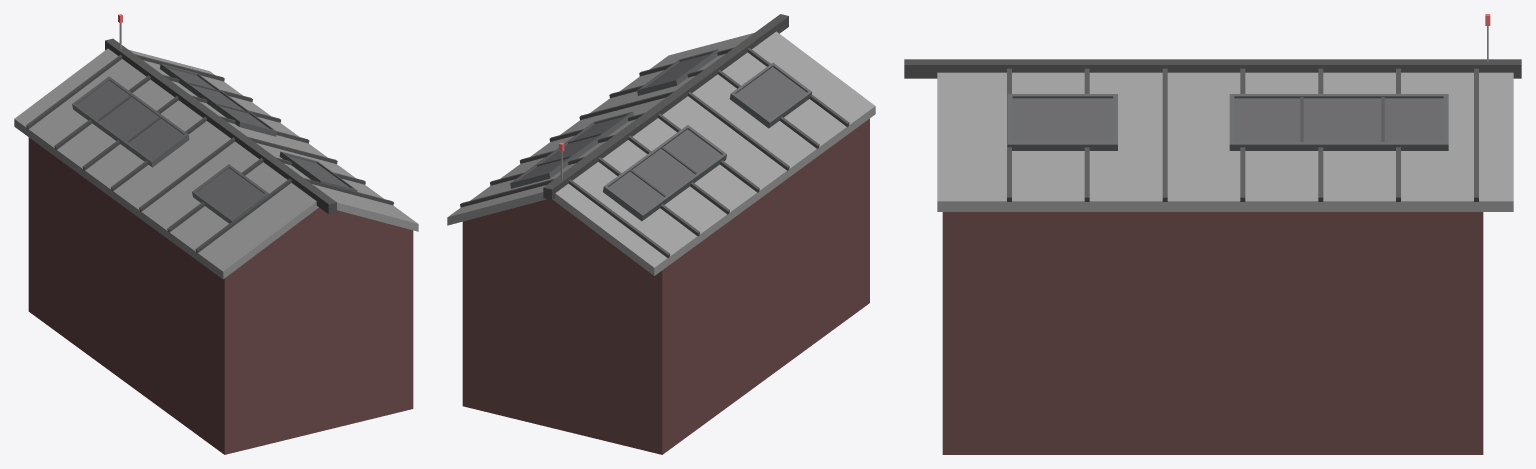
File: NorthWest_Warehouse_03.fbx
3 renders of one model, left to right at view 1: azimuth 30°, elevation 25°; view 2: azimuth 150°, elevation 25°; view 3: azimuth 270°, elevation 25°, orthographic. The views are drawn at different scales.
Parts seen in each view (by area): view 1: NorthWest_Warehouse_03; view 2: NorthWest_Warehouse_03; view 3: NorthWest_Warehouse_03.
Boxes of the visible parts, x1,y1,x2,y2 form: NorthWest_Warehouse_03: (14, 14, 418, 454); NorthWest_Warehouse_03: (447, 14, 875, 454); NorthWest_Warehouse_03: (904, 14, 1521, 454).
Bounding box in the file's own units: 23.78 × 31.45 × 46.84.
